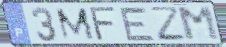3: (31, 6, 58, 43)
E: (118, 5, 158, 42)
F: (88, 5, 118, 42)
M: (176, 6, 223, 42), (54, 7, 97, 42)
Z: (148, 6, 189, 43)
